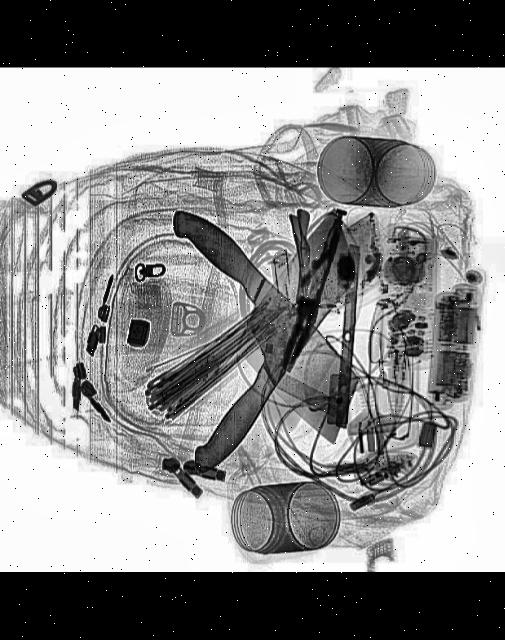Knife: (140, 207, 405, 478), (136, 197, 388, 448)
